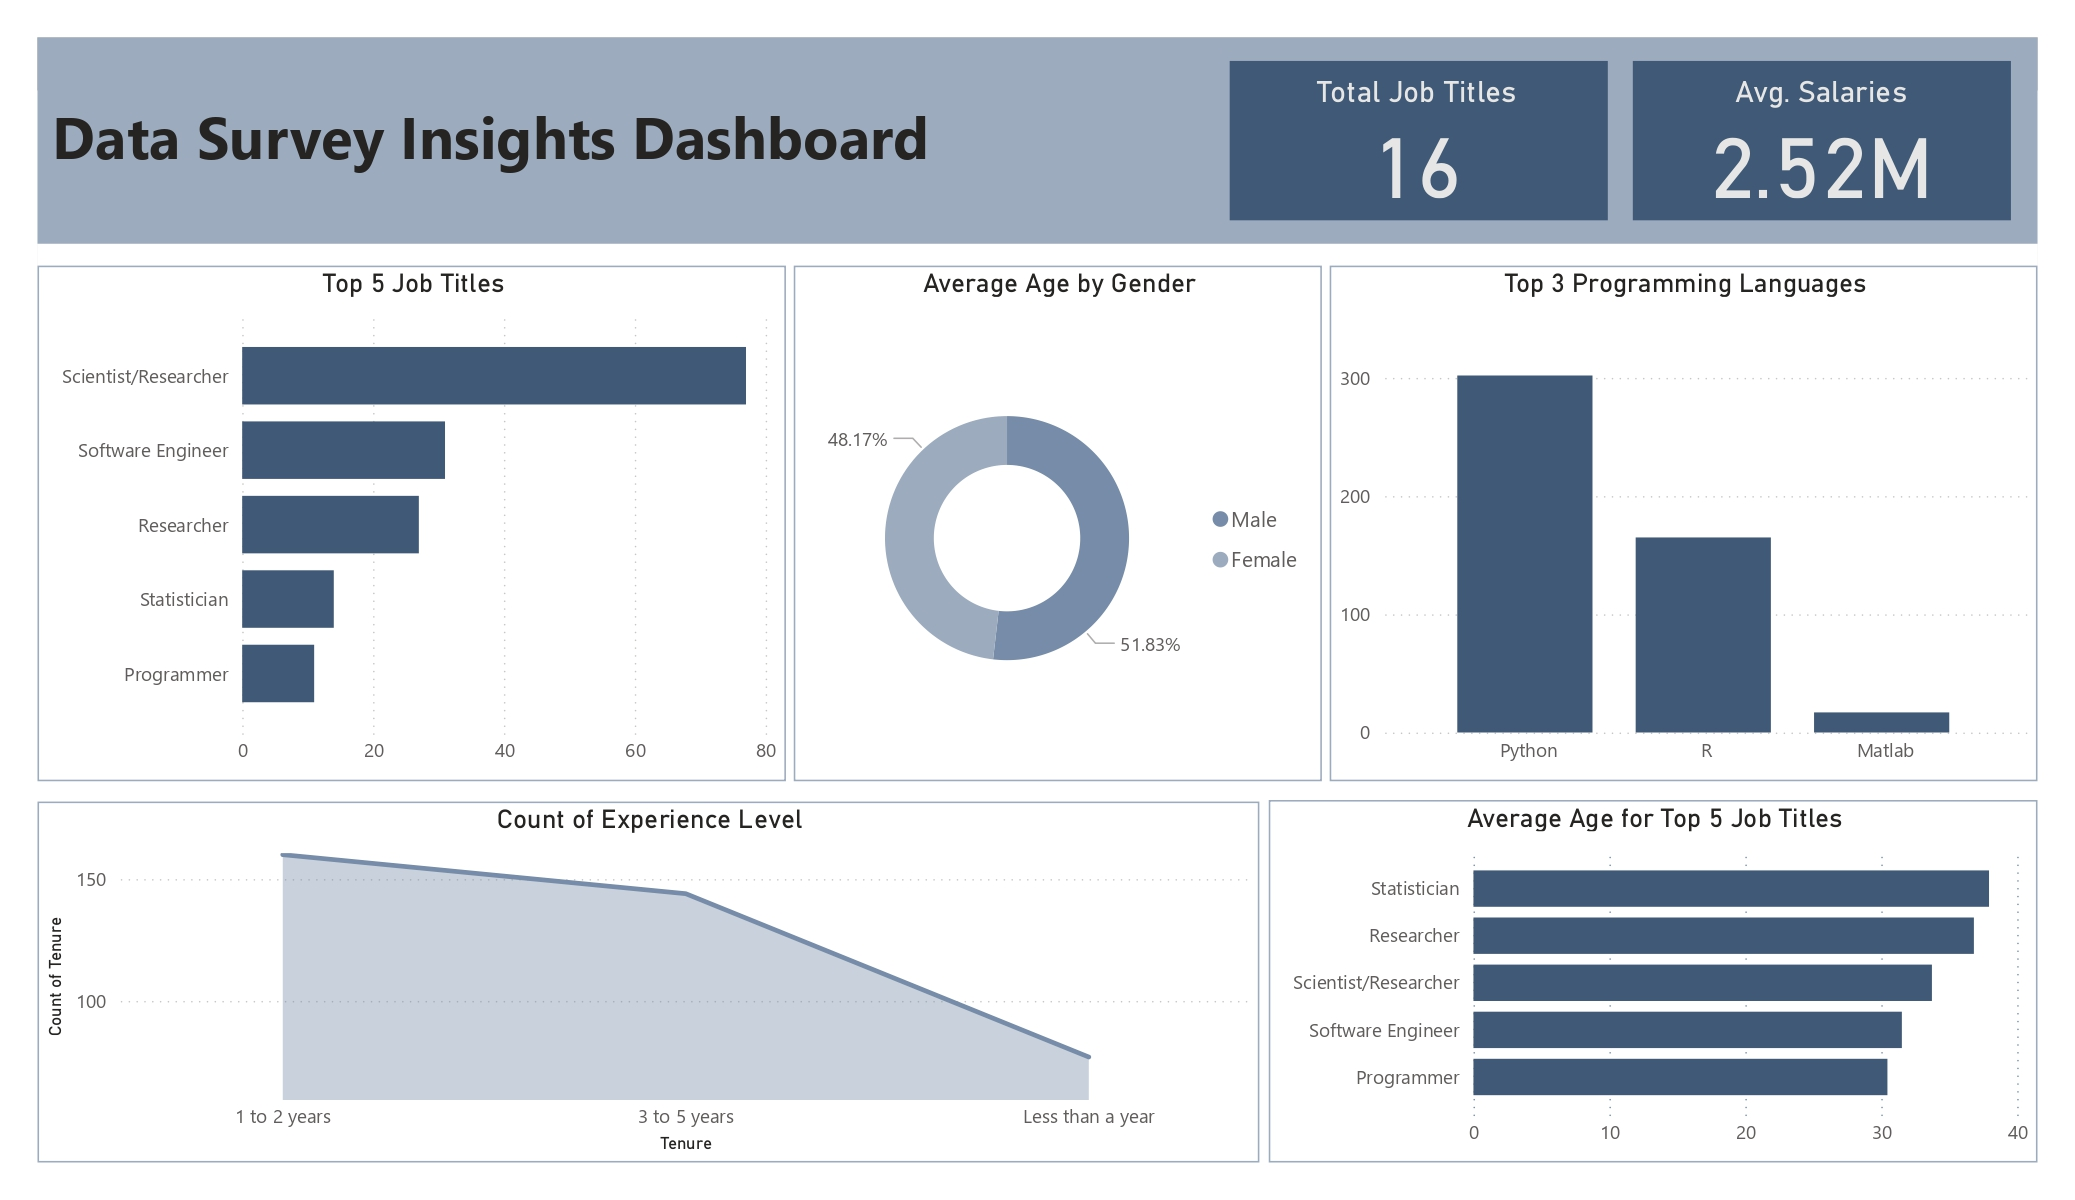

The dashboard page shown, as its layout file describes it:
{"tool":"powerbi","page":{"name":"Page 1","canvas":[1280,720],"ordinal":0},"visuals":[{"type":"clusteredColumnChart","title":"Top 3 Programming Languages","fields":{"Category":["cleaned_survey_data.LanguageRecommendationSelect"],"Y":["CountNonNull(cleaned_survey_data.LanguageRecommendationSelect)"]},"box":[826.6,145.5,453.7,330.2],"z":0},{"type":"clusteredBarChart","title":"Top 5 Job Titles","fields":{"Category":["cleaned_survey_data.CurrentJobTitleSelect"],"Y":["CountNonNull(cleaned_survey_data.CurrentJobTitleSelect)"]},"box":[0,145.5,479.4,330.2],"z":1000},{"type":"clusteredBarChart","title":"Average Age for Top 5 Job Titles","fields":{"Category":["cleaned_survey_data.CurrentJobTitleSelect"],"Y":["Avg(cleaned_survey_data.Age)"]},"box":[787.5,487.9,492.8,232.3],"z":2000},{"type":"donutChart","title":"Average Age by Gender","fields":{"Category":["cleaned_survey_data.GenderSelect"],"Y":["Avg(cleaned_survey_data.Age)"]},"box":[484.2,145.5,337.5,330.2],"z":3000},{"type":"areaChart","title":"Count of Experience Level","fields":{"Category":["cleaned_survey_data.Tenure"],"Y":["CountNonNull(cleaned_survey_data.Tenure)"]},"box":[0,488.5,782.2,231.9],"z":4000},{"type":"group","id":"g1","title":"Group 1","box":[0,0,1280.3,131.7],"z":5000,"group":"g3"},{"type":"shape","box":[0,0,1280.3,131.7],"z":5000,"group":"g1"},{"type":"group","id":"g2","title":"Group 2","box":[1020.9,14.8,241.5,101.5],"z":6001,"group":"g3"},{"type":"group","id":"g3","title":"Group 3","box":[0,0,1280.3,131.7],"z":6002,"group":"g4"},{"type":"group","id":"g4","title":"Group 4","box":[0,0,1280.3,131.7],"z":6003},{"type":"shape","box":[1020.9,14.8,241.5,101.5],"z":6003,"group":"g2"},{"type":"shape","box":[763,15.1,241.5,101.5],"z":6003,"group":"g5"},{"type":"textbox","box":[0,32.9,580.4,68.6],"z":6500,"group":"g1"},{"type":"group","id":"g5","title":"Group 2","box":[763,15.1,241.5,101.5],"z":6502,"group":"g4"},{"type":"card","title":"Avg. Salaries","fields":{"Values":["Avg(cleaned_survey_data.CompensationAmount)"]},"box":[1059.3,23,164.7,85.1],"z":7003,"group":"g2"},{"type":"card","title":"Total Job Titles","fields":{"Values":["Count(cleaned_survey_data.CurrentJobTitleSelect)"]},"box":[800,23.3,164.7,85.1],"z":7003,"group":"g5"}]}

Visuals, with their boxes on the page's 1280x720 design canvas (x1, y1, x2, y2). These are canvas units, not pixel positions in the 2075x1200 screenshot, which may show the page scaled, cropped or inside an application window:
"Top 3 Programming Languages" clusteredColumnChart: (x1=827, y1=146, x2=1280, y2=476)
"Top 5 Job Titles" clusteredBarChart: (x1=0, y1=146, x2=479, y2=476)
"Average Age for Top 5 Job Titles" clusteredBarChart: (x1=788, y1=488, x2=1280, y2=720)
"Average Age by Gender" donutChart: (x1=484, y1=146, x2=822, y2=476)
"Count of Experience Level" areaChart: (x1=0, y1=488, x2=782, y2=720)
"Group 1" group: (x1=0, y1=0, x2=1280, y2=132)
shape: (x1=0, y1=0, x2=1280, y2=132)
"Group 2" group: (x1=1021, y1=15, x2=1262, y2=116)
"Group 3" group: (x1=0, y1=0, x2=1280, y2=132)
"Group 4" group: (x1=0, y1=0, x2=1280, y2=132)
shape: (x1=1021, y1=15, x2=1262, y2=116)
shape: (x1=763, y1=15, x2=1004, y2=117)
textbox: (x1=0, y1=33, x2=580, y2=102)
"Group 2" group: (x1=763, y1=15, x2=1004, y2=117)
"Avg. Salaries" card: (x1=1059, y1=23, x2=1224, y2=108)
"Total Job Titles" card: (x1=800, y1=23, x2=965, y2=108)
